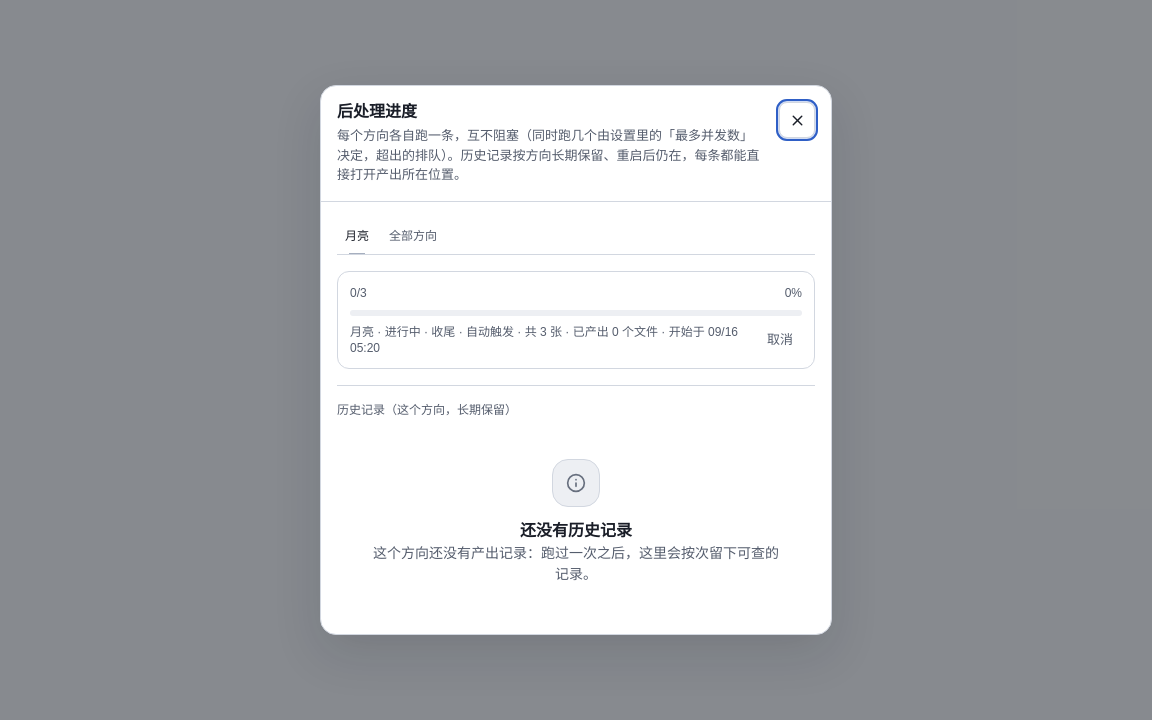
Test: 后处理进度面板 › ⭐ 正在跑的跟着标签页过滤：当前方向页只看得见这个方向的进度
Expected: the number of elements with test id "postprocess-active-run" is 1, 337,271 -> 815,369
Expected: the element with test id "postprocess-active-run" shows "月亮", 350,325 -> 738,355
Click the tab "全部方向". click: (413, 236)
box: 381,218 -> 445,254
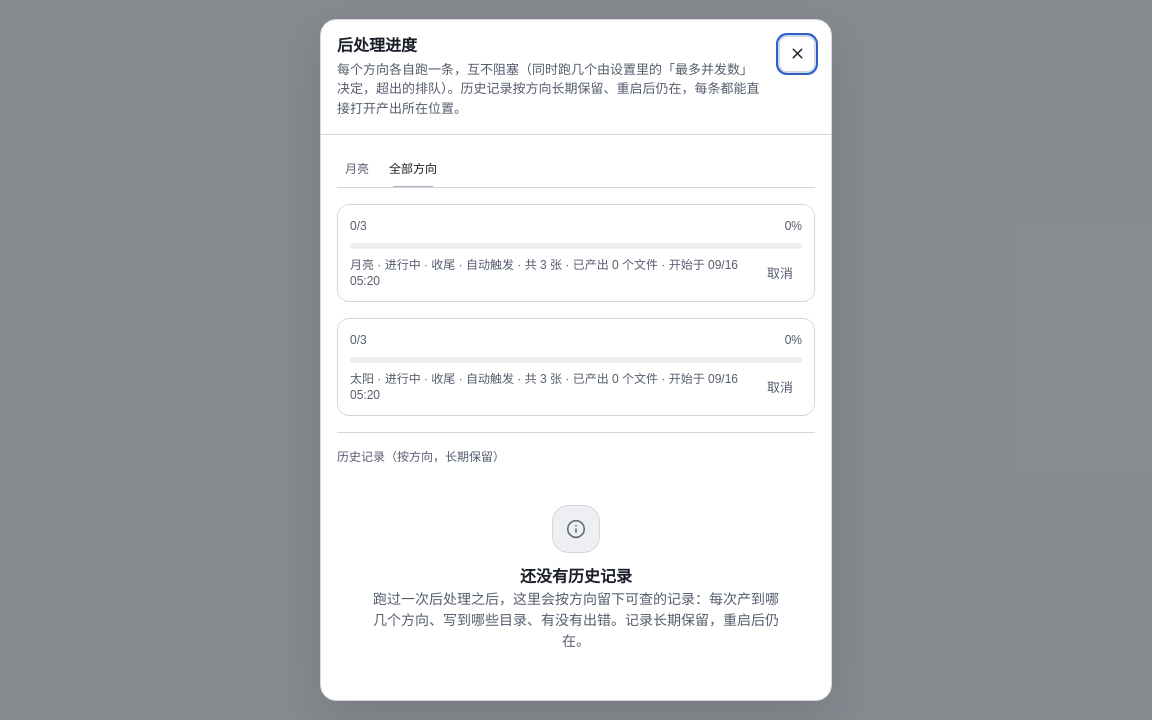
Now the number of elements with test id "postprocess-active-run" is 2, box 337,204 -> 815,302; 337,318 -> 815,416
